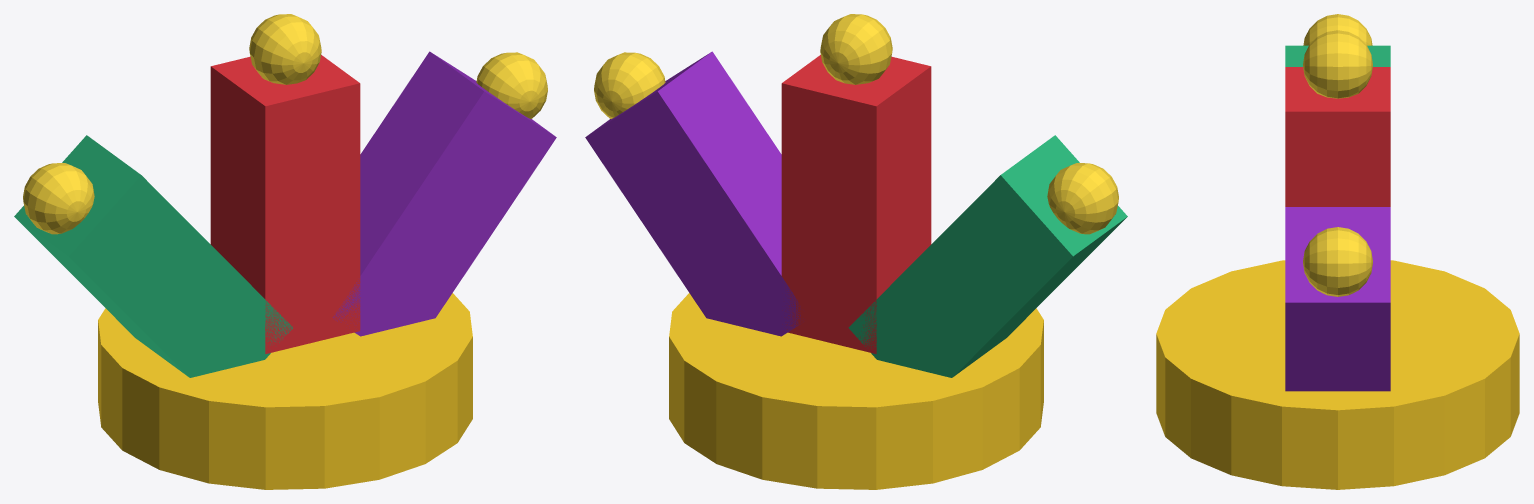
Rendered from hat_jester.fbx.
The picture shows the model from 3 angles, left to right: view 1: azimuth 30°, elevation 25°; view 2: azimuth 150°, elevation 25°; view 3: azimuth 270°, elevation 25°; orthographic projection. The views are drawn at different scales.
Parts seen in each view (by area): view 1: hat_jester; view 2: hat_jester; view 3: hat_jester.
Part boxes in pixels (x1,y1,x2,y2): hat_jester: (14,14,556,489); hat_jester: (585,14,1127,489); hat_jester: (1156,14,1519,489).
Bounding box in the file's own units: 196 × 143 × 124.
1 material, 1 textured.
